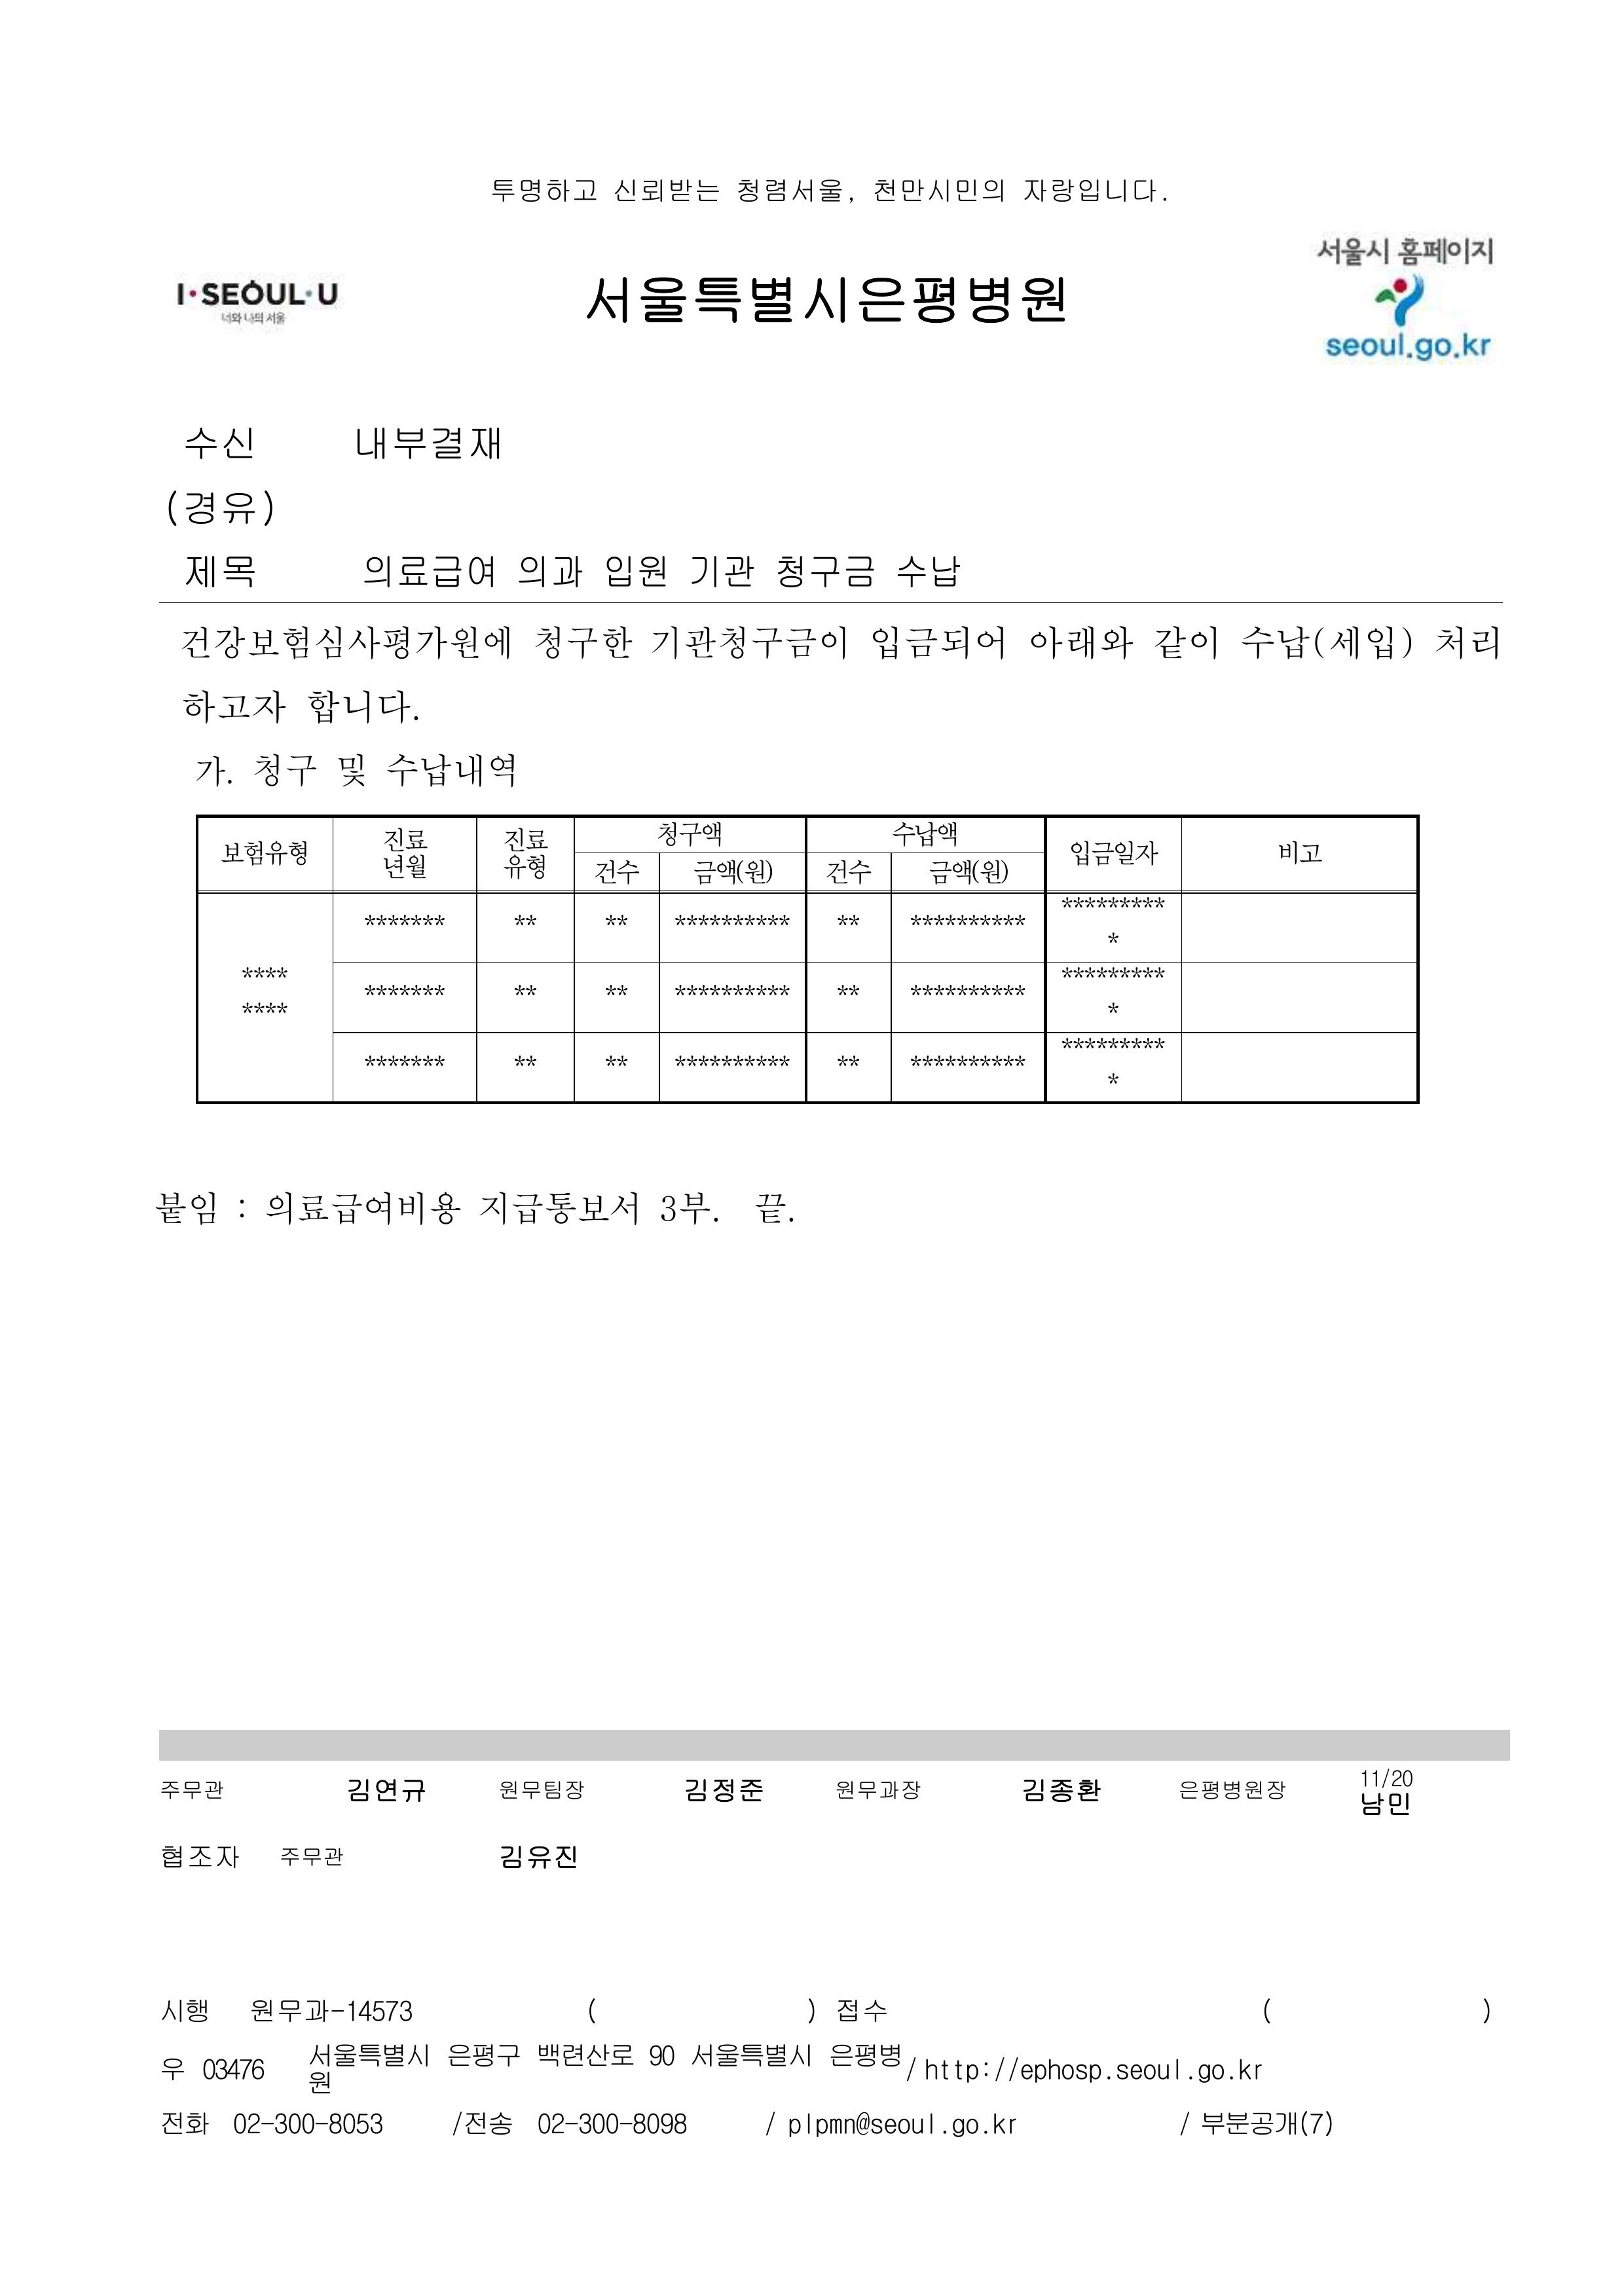t: (581, 268, 1069, 329), (179, 620, 513, 663), (645, 623, 853, 667), (265, 1190, 462, 1233), (1237, 623, 1412, 663), (351, 423, 506, 466), (362, 548, 502, 595), (477, 1190, 642, 1230), (868, 623, 1011, 667), (251, 748, 378, 794), (383, 749, 516, 792), (161, 487, 280, 534), (247, 1993, 416, 2026), (304, 685, 423, 731), (172, 276, 341, 308), (1018, 172, 1162, 208), (771, 552, 878, 595), (688, 2036, 814, 2072), (868, 175, 1007, 208), (305, 2033, 432, 2068), (529, 624, 634, 666), (1198, 2108, 1334, 2140), (1025, 623, 1133, 663), (731, 172, 849, 208), (788, 2112, 936, 2140), (610, 172, 720, 208), (232, 2112, 387, 2137), (538, 2112, 692, 2137), (179, 688, 287, 724), (1391, 232, 1495, 268), (487, 175, 599, 208), (688, 552, 760, 595), (893, 552, 965, 595), (1151, 623, 1223, 667), (219, 835, 312, 868), (1065, 835, 1158, 868), (1312, 232, 1395, 268), (602, 552, 671, 595), (534, 2040, 638, 2068), (516, 552, 588, 591), (183, 423, 254, 462), (183, 552, 254, 591), (1007, 2058, 1104, 2087), (157, 1839, 244, 1871), (692, 856, 774, 889), (344, 1774, 426, 1807), (681, 1774, 764, 1807), (1018, 1774, 1101, 1807), (1179, 1778, 1287, 1803), (154, 1186, 222, 1226), (498, 1839, 577, 1871), (1431, 623, 1499, 659), (1411, 337, 1494, 367), (445, 2040, 520, 2072), (828, 2040, 904, 2072), (929, 860, 1011, 889), (921, 2055, 993, 2087), (1323, 333, 1412, 358), (498, 1778, 588, 1803), (656, 1190, 717, 1226), (836, 1778, 921, 1803), (197, 2055, 268, 2083), (448, 2108, 513, 2137), (896, 821, 961, 849), (157, 1993, 212, 2026), (832, 1993, 885, 2026), (907, 982, 1025, 997), (674, 982, 788, 997), (659, 824, 724, 849), (1058, 964, 1165, 979), (380, 849, 426, 882), (502, 849, 548, 882), (193, 756, 240, 788), (1061, 1036, 1165, 1050), (280, 1846, 348, 1868), (1115, 2062, 1183, 2083), (161, 1778, 226, 1800), (161, 2112, 212, 2137), (753, 1190, 788, 1226), (907, 914, 1025, 925), (1363, 1793, 1412, 1818), (674, 914, 788, 925), (674, 1054, 788, 1065), (911, 1054, 1025, 1065), (362, 982, 445, 997), (595, 860, 642, 885), (1058, 896, 1165, 907), (506, 832, 548, 856), (828, 860, 871, 885), (383, 832, 430, 853), (1276, 842, 1323, 864), (645, 2040, 678, 2068), (362, 914, 445, 925), (362, 1054, 445, 1065), (1198, 2062, 1230, 2087), (950, 2116, 982, 2140), (1380, 1767, 1416, 1789), (240, 964, 287, 979), (240, 1000, 287, 1014), (989, 2116, 1018, 2137), (1237, 2062, 1266, 2083), (164, 2058, 186, 2080), (308, 2072, 329, 2094), (602, 982, 627, 997)
